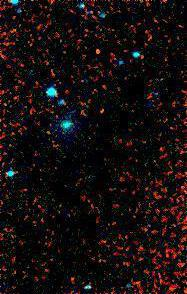star: (82, 37, 112, 67)
